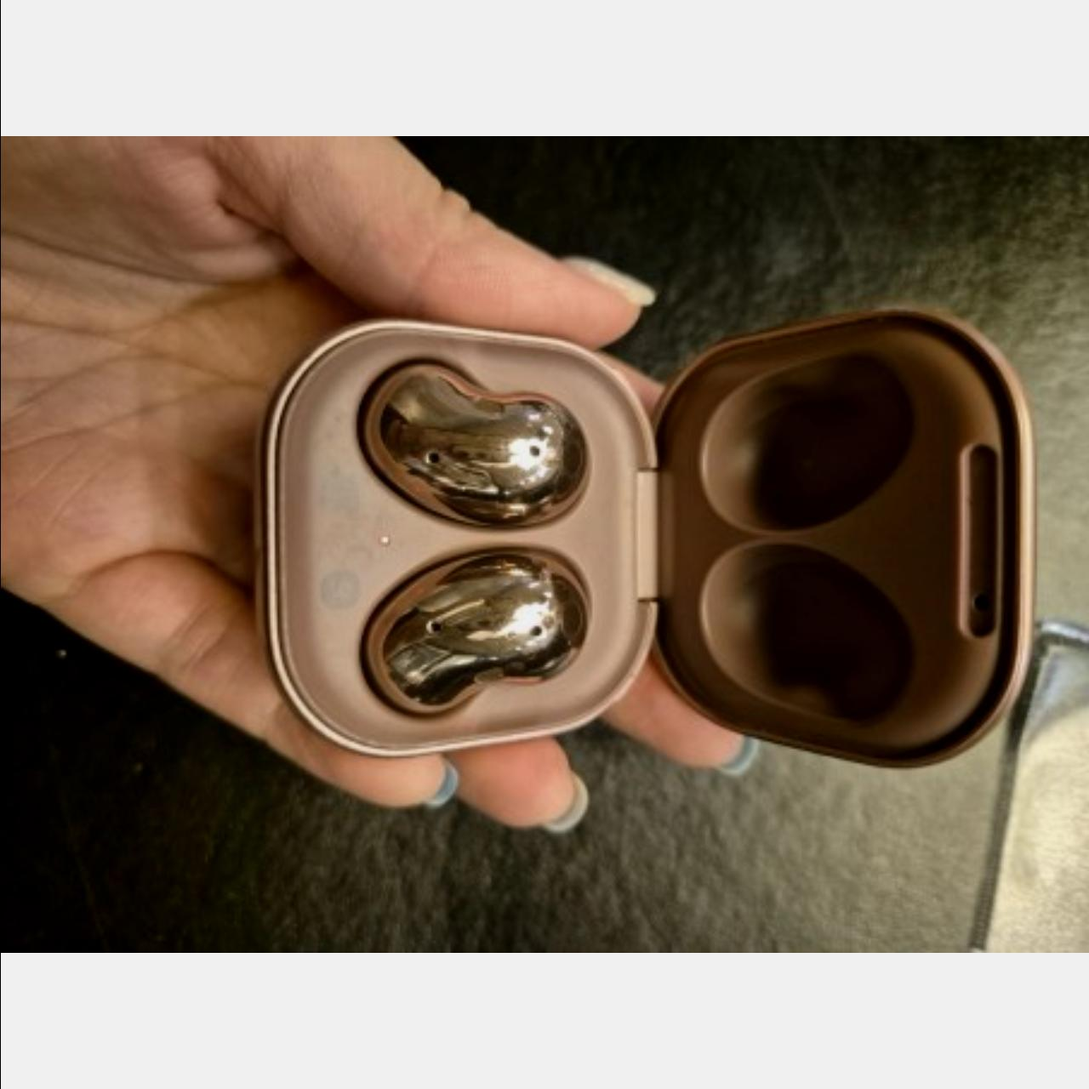Buds: (245, 299, 1043, 773)
Buds_Units: (350, 541, 596, 733), (354, 351, 596, 536)
